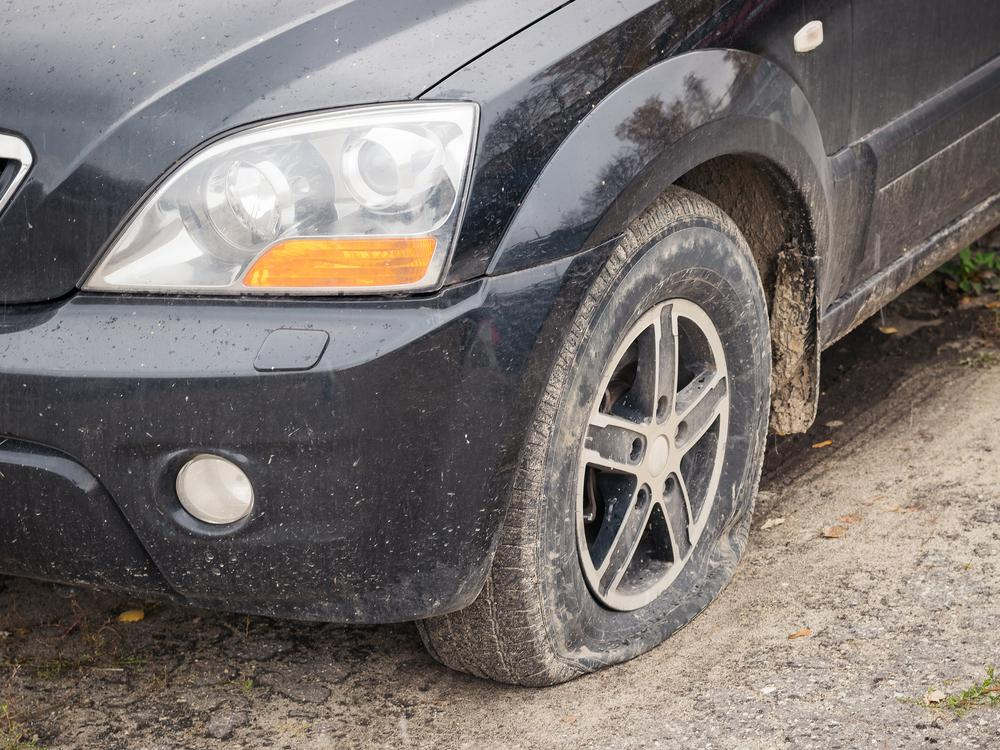tire flat: (414, 187, 773, 685)
